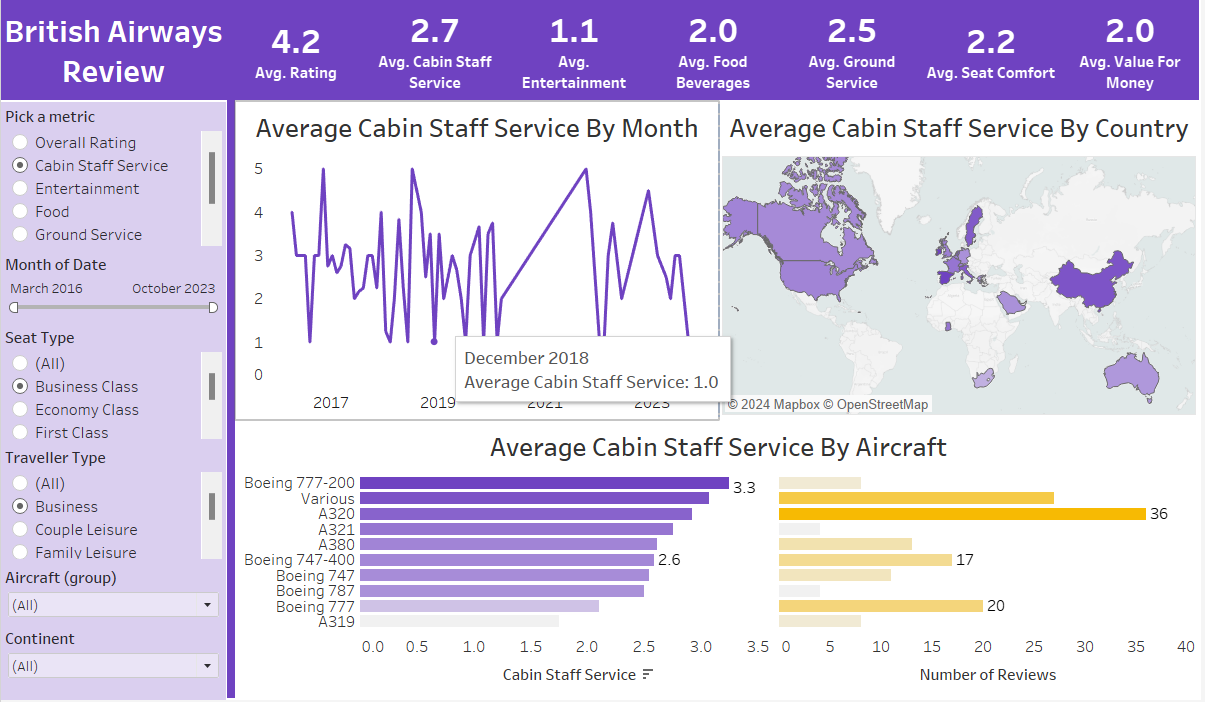

The page's visual inventory and layout, read from the dashboard file:
{"tool":"tableau","page":{"name":"Dashboard 1","canvas":[1200,700],"ordinal":0},"visuals":[{"type":"text","box":[0,0,225,100]},{"type":"worksheet","title":"Summary","mark":"Automatic","box":[225,0,973,100]},{"type":"blank","box":[226,100,8,598]},{"type":"parameter","param":"[Parameters].[Parameter 1]","box":[0,102,225,148]},{"type":"worksheet","title":"Month","mark":"Automatic","rows":["Calculation_1213157192004177920"],"cols":["date"],"box":[235,102,482,317]},{"type":"worksheet","title":"Map","mark":"Multipolygon","box":[717,102,482,317]},{"type":"filter","title":"Map","param":"[federated.00fxezy1kae7h61a49g961d8gd50].[tmn:date:qk]","box":[0,250,225,73]},{"type":"filter","title":"Map","param":"[federated.00fxezy1kae7h61a49g961d8gd50].[none:seat_type:nk]","box":[0,323,225,120]},{"type":"worksheet","title":"Aircraft","mark":"Automatic","cols":["Calculation_1213157192004177920","ba_reviews.csv_B4369CD2B98B4565819D38FDC119DE84"],"box":[235,421,965,275]},{"type":"filter","title":"Map","param":"[federated.00fxezy1kae7h61a49g961d8gd50].[none:traveller_type:nk]","box":[0,443,225,120]},{"type":"filter","title":"Map","param":"[federated.00fxezy1kae7h61a49g961d8gd50].[Aircraft (group)]","box":[0,563,225,61]},{"type":"filter","title":"Map","param":"[federated.00fxezy1kae7h61a49g961d8gd50].[none:Continent:nk]","box":[0,624,225,61]}]}

Visuals, with their boxes in screenshot pixels (x1, y1, x2, y2), scaled from the page's 1200x700 canvas onto the 1205x702 screenshot:
text: <region>0, 0, 226, 100</region>
"Summary" worksheet: <region>226, 0, 1203, 100</region>
blank: <region>227, 100, 235, 700</region>
parameter: <region>0, 102, 226, 251</region>
"Month" worksheet: <region>236, 102, 720, 420</region>
"Map" worksheet (Multipolygon marks): <region>720, 102, 1204, 420</region>
"Map" filter: <region>0, 251, 226, 324</region>
"Map" filter: <region>0, 324, 226, 444</region>
"Aircraft" worksheet: <region>236, 422, 1204, 698</region>
"Map" filter: <region>0, 444, 226, 565</region>
"Map" filter: <region>0, 565, 226, 626</region>
"Map" filter: <region>0, 626, 226, 687</region>
